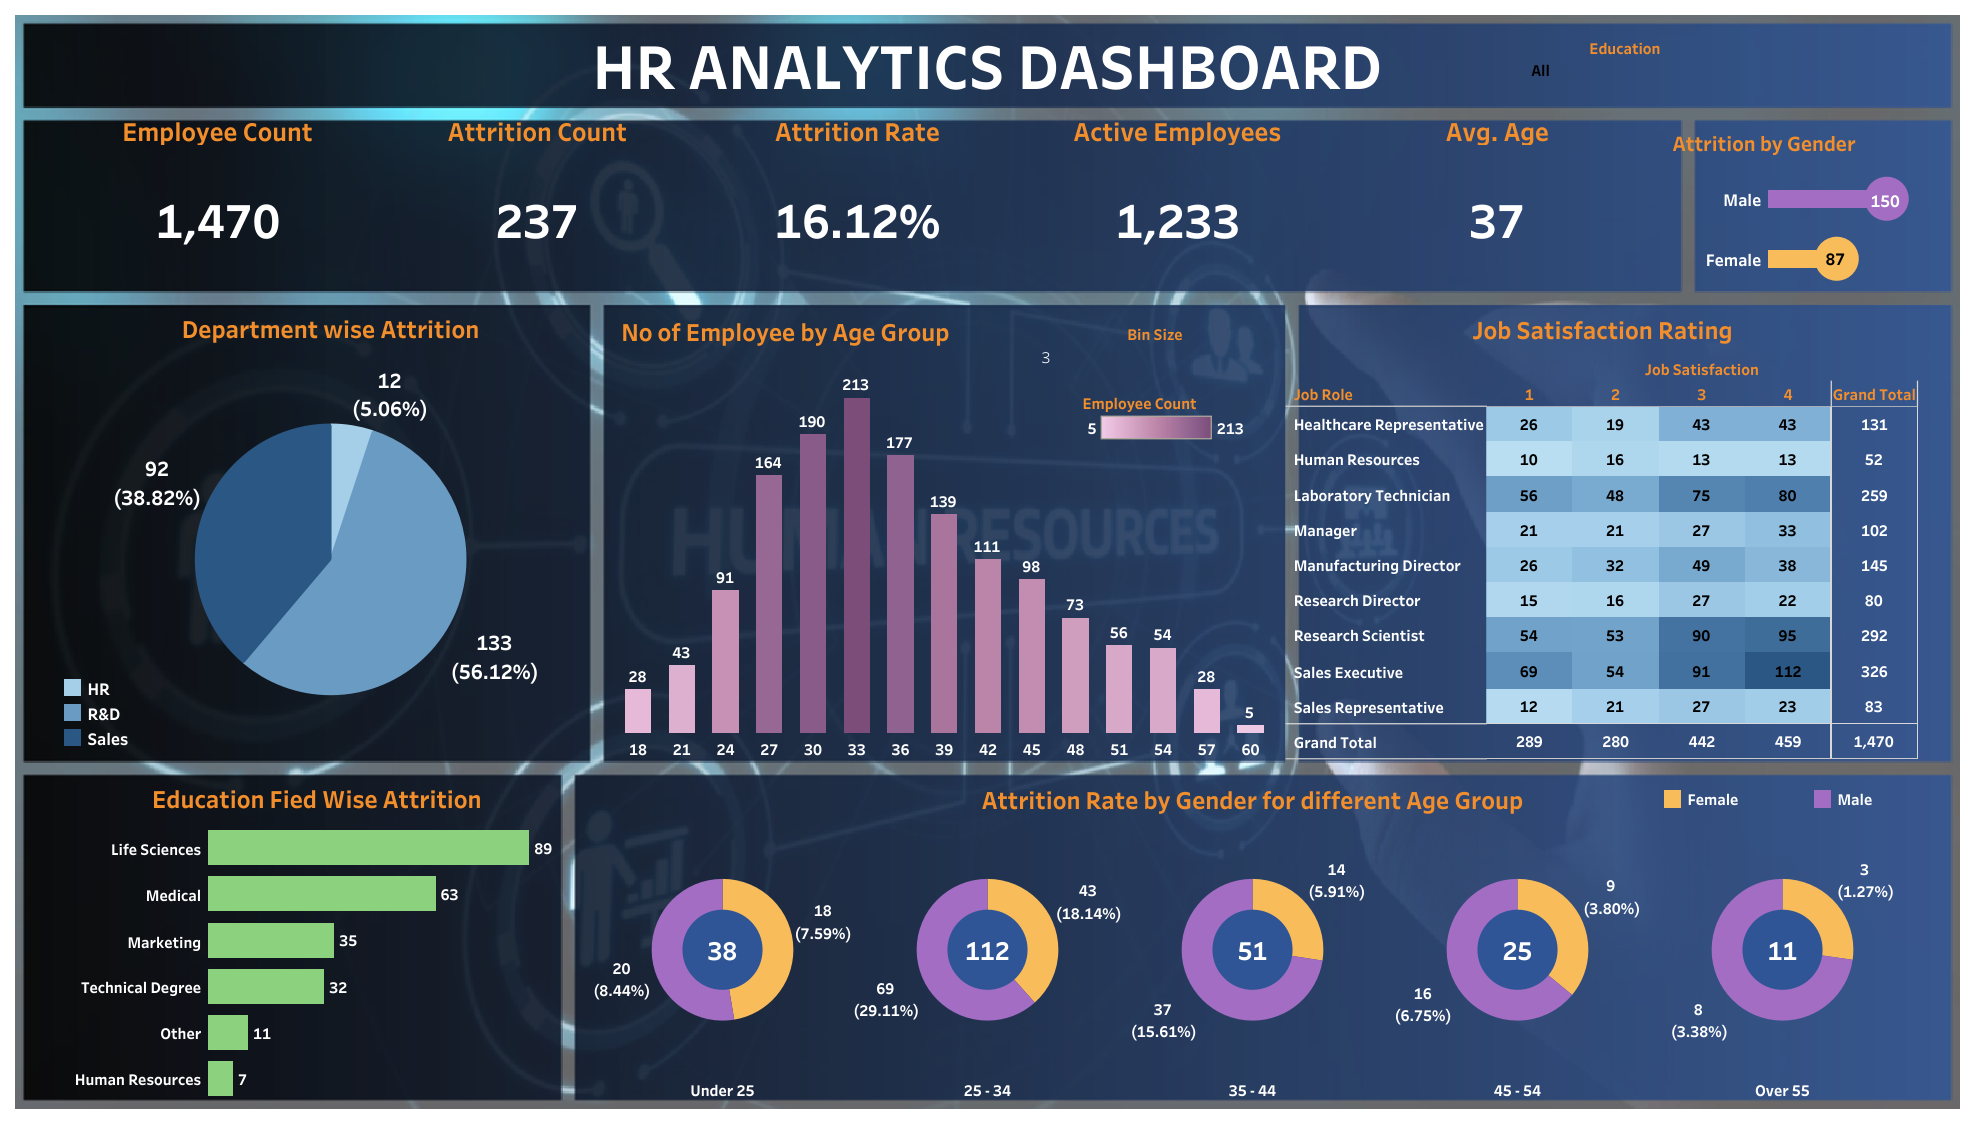

What the dashboard file says about the page in this screenshot:
{"tool":"tableau","page":{"name":"HR Analytics Dashboard","canvas":[1000,1000],"units":"permille","ordinal":0},"visuals":[{"type":"image","param":"Image/HR background.png","box":[4.9,8.9,990.2,982.2]},{"type":"text","box":[30.5,21.1,939.1,71.1]},{"type":"filter","title":"Department wise Attrition ","param":"[federated.0owfflt0s6evbg1gxt36q06io6x0].[none:Education:nk]","box":[773.9,31.1,97.5,55.6]},{"type":"worksheet","title":"KPI","mark":"Automatic","box":[29.2,105.6,809.9,155.6]},{"type":"worksheet","title":"Attrition by Gender","mark":"Automatic","rows":["Gender"],"cols":["Calculation_2615768425504768","Calculation_2615768425504768"],"box":[844.6,107.8,124.9,148.9]},{"type":"worksheet","title":"Department wise Attrition ","mark":"Pie","box":[30.5,270,274.2,408.9]},{"type":"worksheet","title":"Job Satisfaction Rating","mark":"Square","rows":["Job Role"],"cols":["Job Satisfaction"],"box":[651.4,271.1,319.9,404.4]},{"type":"worksheet","title":"No of Employee by Age Group","mark":"Automatic","rows":["Employee Count"],"cols":["Age (bin)"],"box":[312,273.3,332.1,402.2]},{"type":"parameter","param":"[Parameters].[Parameter 1]","box":[525.9,285.6,117.6,50]},{"type":"legend","title":"No of Employee by Age Group","param":"[federated.0owfflt0s6evbg1gxt36q06io6x0].[sum:Employee Count:qk]","box":[547.8,343.3,85.3,97.8]},{"type":"legend","title":"Department wise Attrition ","param":"[federated.0owfflt0s6evbg1gxt36q06io6x0].[none:Department:nk]","box":[30.5,600,85.3,90]},{"type":"worksheet","title":"Education Fied Wise Attrition","mark":"Automatic","rows":["Education Field"],"cols":["Calculation_2615768425504768"],"box":[29.2,687.8,262.6,291.1]},{"type":"worksheet","title":"Attrition Rate by Gender for different Age Group","mark":"Pie","rows":["Calculation_2615768735248388","Calculation_2615768735248388"],"cols":["CF_age band"],"box":[298.6,688.9,670.9,290]},{"type":"legend","title":"Attrition Rate by Gender for different Age Group","param":"[federated.0owfflt0s6evbg1gxt36q06io6x0].[none:Gender:nk]","box":[840.3,698.9,154.8,34.4]}]}

Visuals, with their boxes on the dashboard's canvas, which has no fixed pixel size, in thousandths of its width and height (x1, y1, x2, y2). These are canvas units, not pixel positions in the 1974x1124 screenshot, which may show the page scaled, cropped or inside an application window:
image: (left=5, top=9, right=995, bottom=991)
text: (left=30, top=21, right=970, bottom=92)
"Department wise Attrition " filter: (left=774, top=31, right=871, bottom=87)
"KPI" worksheet: (left=29, top=106, right=839, bottom=261)
"Attrition by Gender" worksheet: (left=845, top=108, right=970, bottom=257)
"Department wise Attrition " worksheet (Pie marks): (left=30, top=270, right=305, bottom=679)
"Job Satisfaction Rating" worksheet (Square marks): (left=651, top=271, right=971, bottom=676)
"No of Employee by Age Group" worksheet: (left=312, top=273, right=644, bottom=676)
parameter: (left=526, top=286, right=644, bottom=336)
"No of Employee by Age Group" legend: (left=548, top=343, right=633, bottom=441)
"Department wise Attrition " legend: (left=30, top=600, right=116, bottom=690)
"Education Fied Wise Attrition" worksheet: (left=29, top=688, right=292, bottom=979)
"Attrition Rate by Gender for different Age Group" worksheet (Pie marks): (left=299, top=689, right=970, bottom=979)
"Attrition Rate by Gender for different Age Group" legend: (left=840, top=699, right=995, bottom=733)
